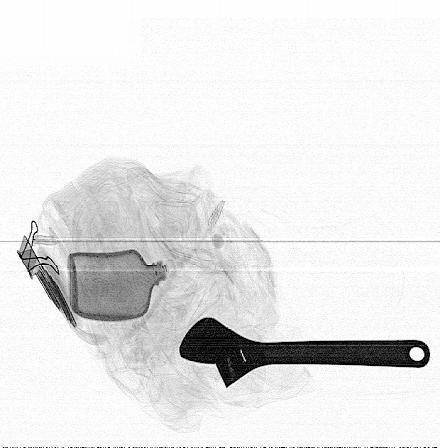Wrench: (175, 314, 431, 387)
